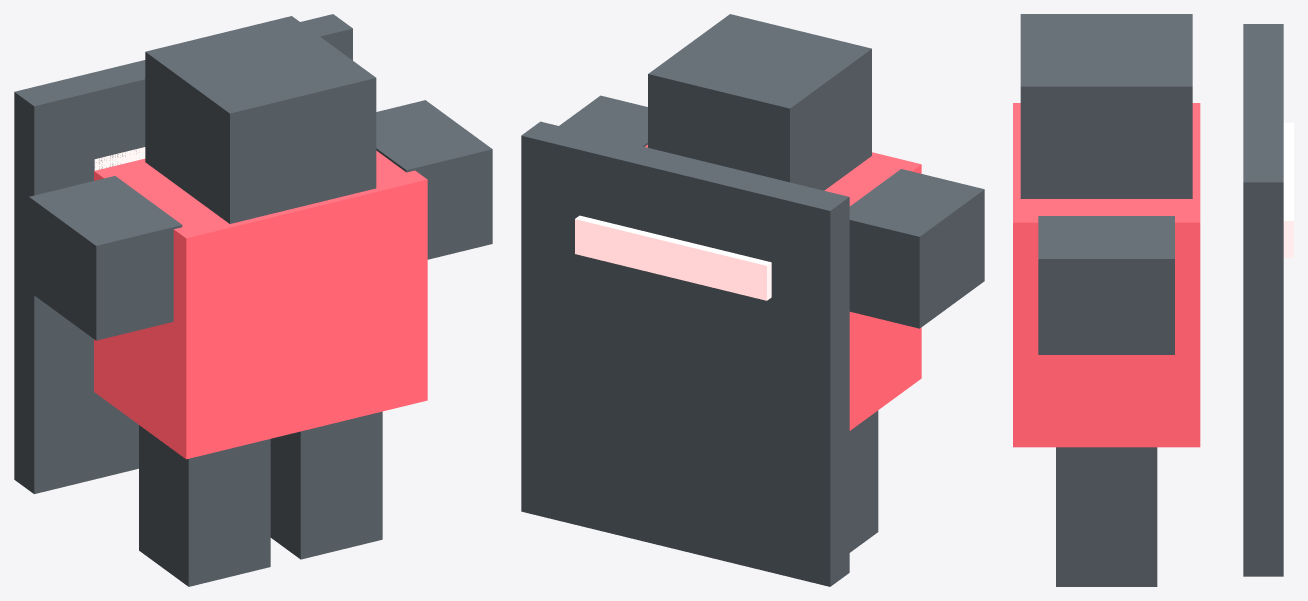
The model's file is shieldbearer.glb.
The picture shows the model from 3 angles, left to right: view 1: azimuth 30°, elevation 25°; view 2: azimuth 150°, elevation 25°; view 3: azimuth 270°, elevation 25°; orthographic projection. The views are drawn at different scales.
Parts seen in each view (by area): view 1: Torso, Helmet, RiotShield, PauldronL, LegL, LegR, PauldronR, ShieldSlit; view 2: RiotShield, Helmet, PauldronL, Torso, ShieldSlit, LegL, PauldronR; view 3: Helmet, Torso, RiotShield, PauldronR, LegR, ShieldSlit.
Boxes of the visible parts, left/top/right/bottom form: Torso: left=94, top=150, right=427, bottom=459; Helmet: left=145, top=16, right=376, bottom=223; RiotShield: left=14, top=14, right=352, bottom=494; PauldronL: left=29, top=176, right=182, bottom=340; LegL: left=139, top=425, right=270, bottom=586; LegR: left=270, top=411, right=382, bottom=559; PauldronR: left=376, top=100, right=492, bottom=259; ShieldSlit: left=94, top=147, right=145, bottom=170; RiotShield: left=521, top=121, right=849, bottom=586; Helmet: left=648, top=14, right=871, bottom=190; PauldronL: left=849, top=169, right=984, bottom=328; Torso: left=645, top=145, right=921, bottom=430; ShieldSlit: left=575, top=215, right=771, bottom=300; LegL: left=849, top=410, right=878, bottom=552; PauldronR: left=559, top=95, right=647, bottom=146; Helmet: left=1020, top=14, right=1192, bottom=198; Torso: left=1013, top=103, right=1200, bottom=447; RiotShield: left=1243, top=24, right=1283, bottom=576; PauldronR: left=1038, top=216, right=1174, bottom=354; LegR: left=1056, top=447, right=1157, bottom=586; ShieldSlit: left=1283, top=122, right=1293, bottom=257.
Size of the model in its own units: 1.84 by 2.13 by 1.11.
